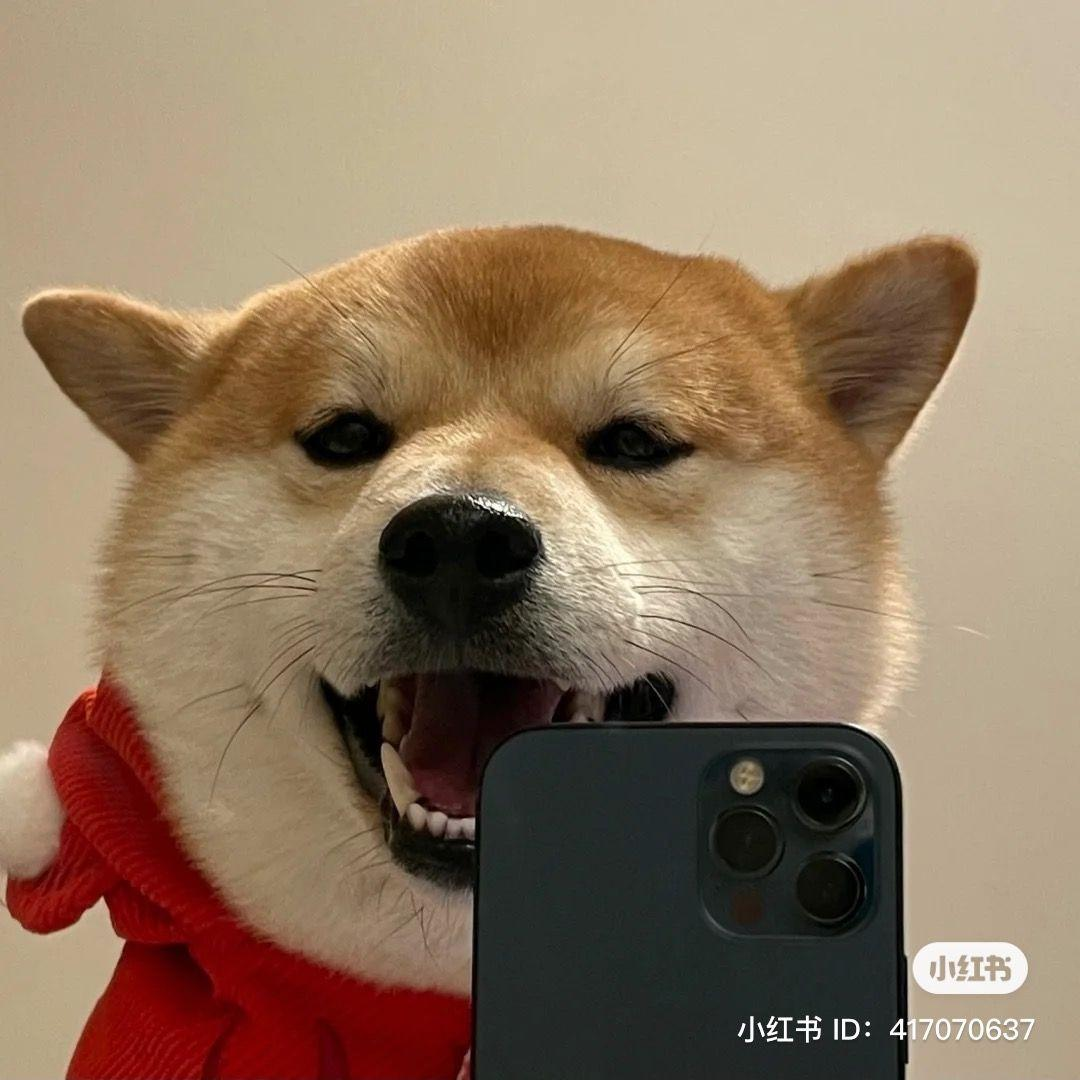adult_dog: (0, 217, 984, 1080)
